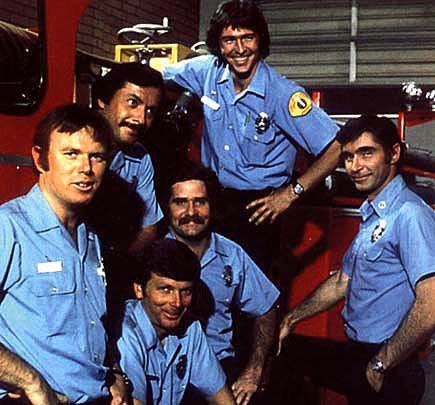bad: (52, 135, 114, 198), (331, 136, 383, 188), (147, 274, 199, 326), (218, 26, 261, 70), (170, 190, 213, 233)
